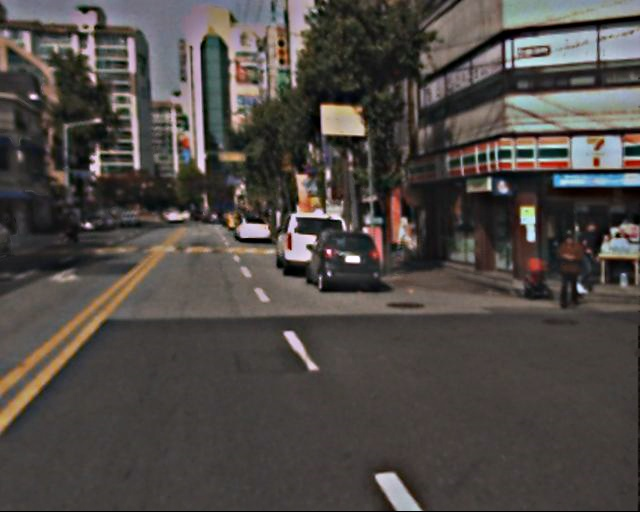person: (553, 229, 591, 308), (575, 220, 606, 292), (63, 206, 81, 249)
